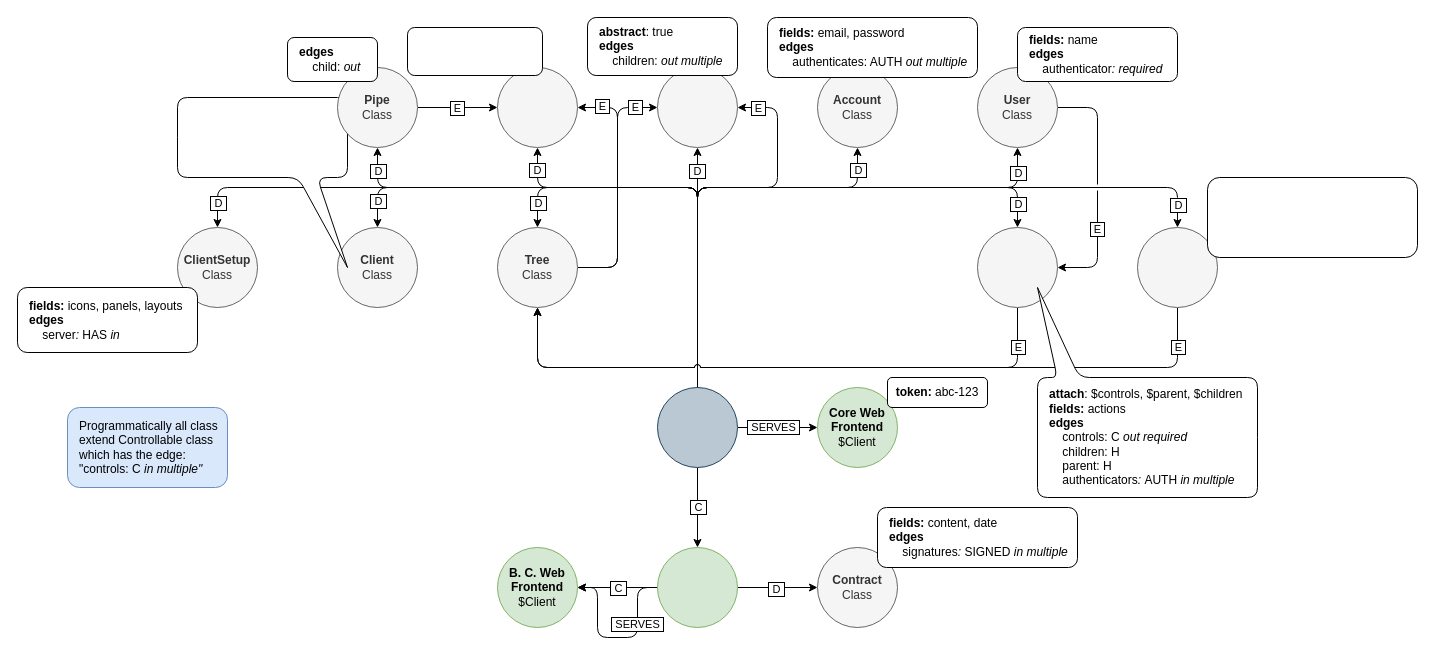
Image size: 1435x663. Some labels were removed from this diagram. The centre of each missing label's shape, as x and y in pixels:
"Bridge Construction $Project" belongs at (x=697, y=587).
"classifier: true fields: name edges contracts : HAS out multiple" belongs at (x=1312, y=217).
"Core Core" belongs at (x=697, y=427).
"edges parent: in required" belongs at (x=474, y=51).
"fields: token edges server : SERVES in setups: HAS out multiple" belongs at (x=262, y=182).
"Leaf Class" belongs at (x=537, y=107).
"Profile Class" belongs at (x=1017, y=267).
"Project Class" belongs at (x=1177, y=267).
"Root Class" belongs at (x=697, y=107).
